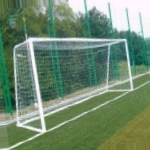goals: (11, 36, 135, 134)
